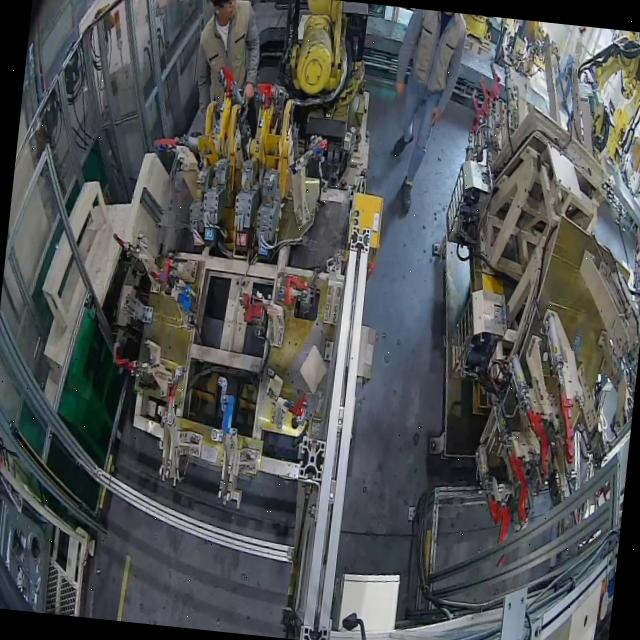Person: (381, 8, 468, 220), (187, 0, 269, 143)
